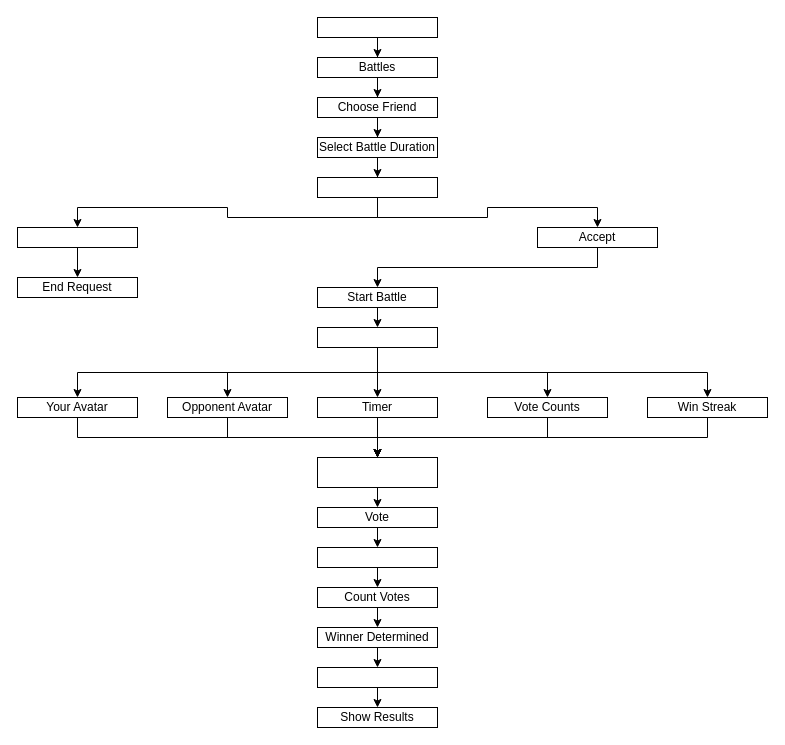
Image size: 785x745. Some labels were removed from this diagram. The shapes that lost their labels are listed below. From the top down, each one's centre as x and y in pixels, then its label:
At (x=377, y=27): "Home Page".
At (x=377, y=187): "Waiting for Response".
At (x=77, y=237): "Decline".
At (x=377, y=337): "Battle Page".
At (x=377, y=472): "Follower Opens Battle".
At (x=377, y=557): "Timer ends".
At (x=377, y=677): "Streaks Updated".
